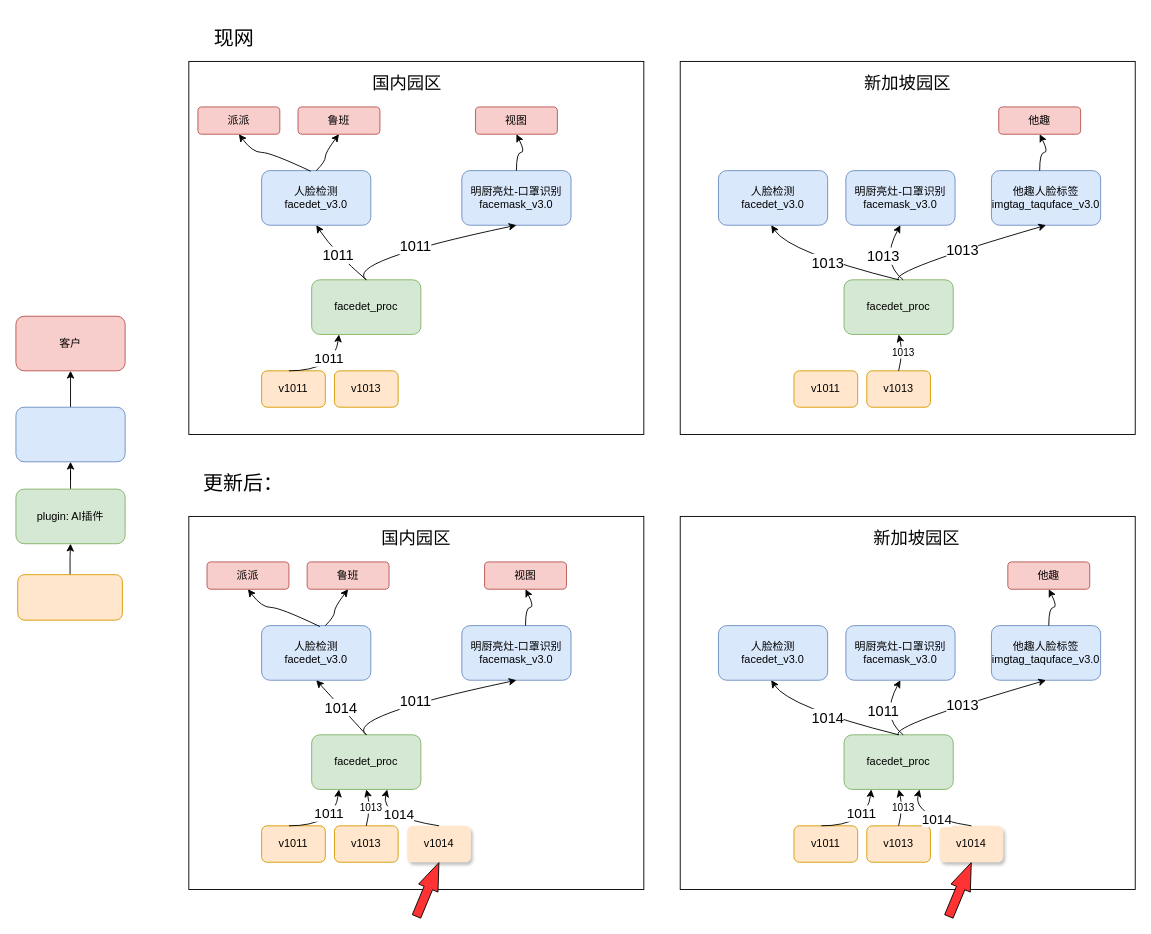
The diagram is 1151 pixels wide and 934 high, and some of its shapes have lost their labels. The centre of each missing label's shape, as x and y in pixels:
"model: AI模型" belongs at (x=69, y=597).
"pipline: AI管道" belongs at (x=70, y=434).
